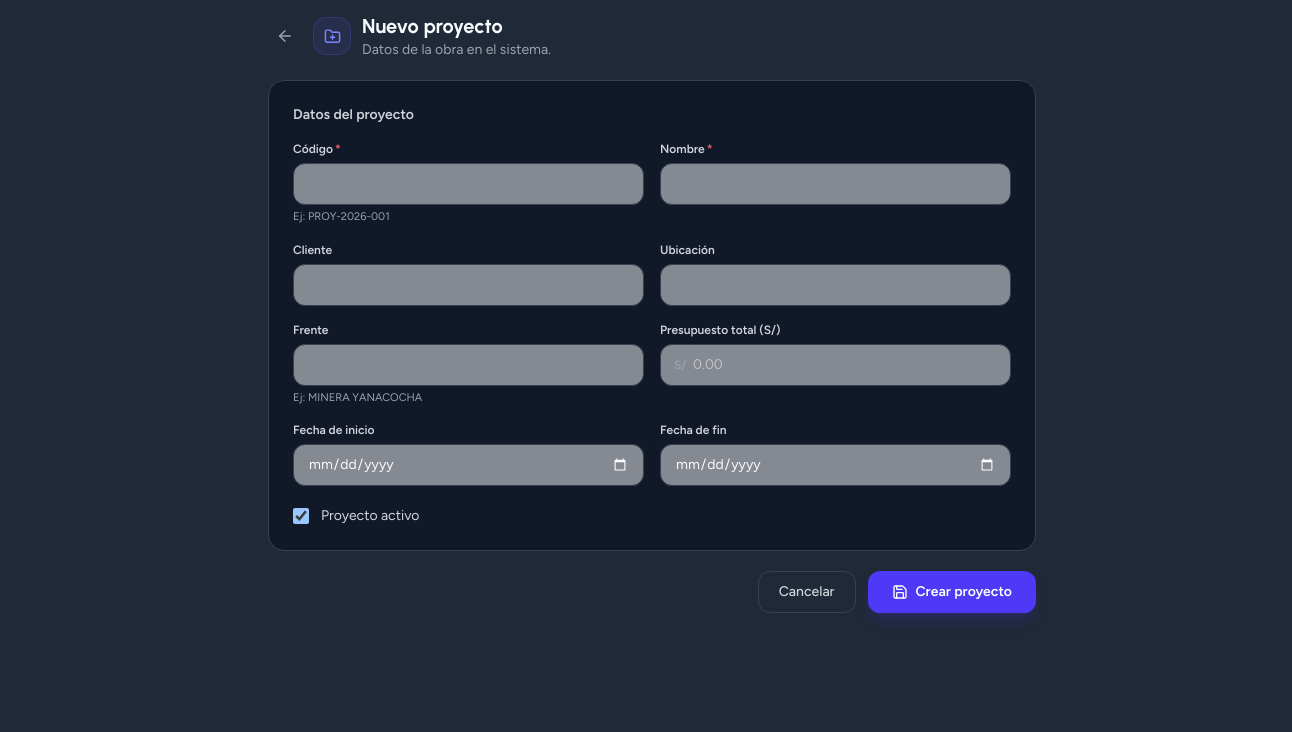
Test: ProjectFormPage — crear › camino feliz: crea el proyecto y vuelve al listado
Type "PRY-009" into the field labelled "Código*" at x=468, y=184, box [293,163,644,205]
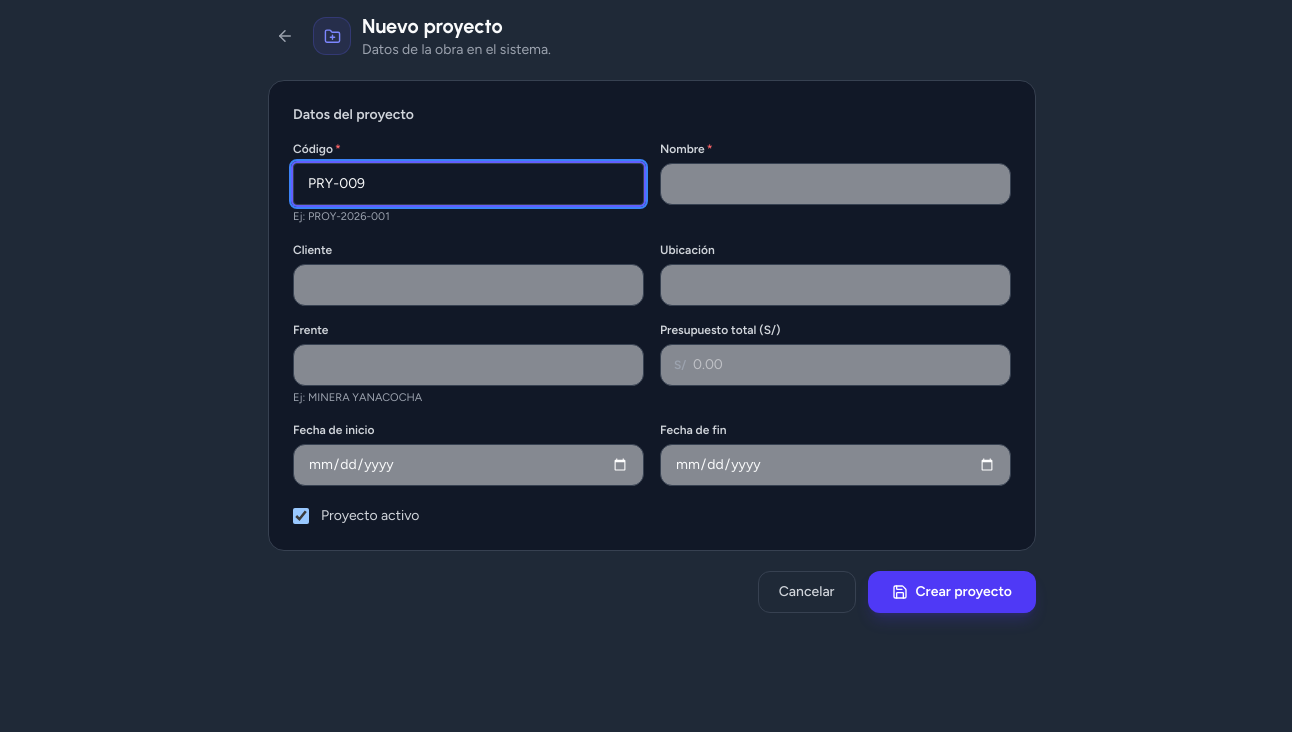
Type "Proyecto Nuevo" into the field labelled "Nombre*" at x=836, y=184, box [660,163,1011,205]
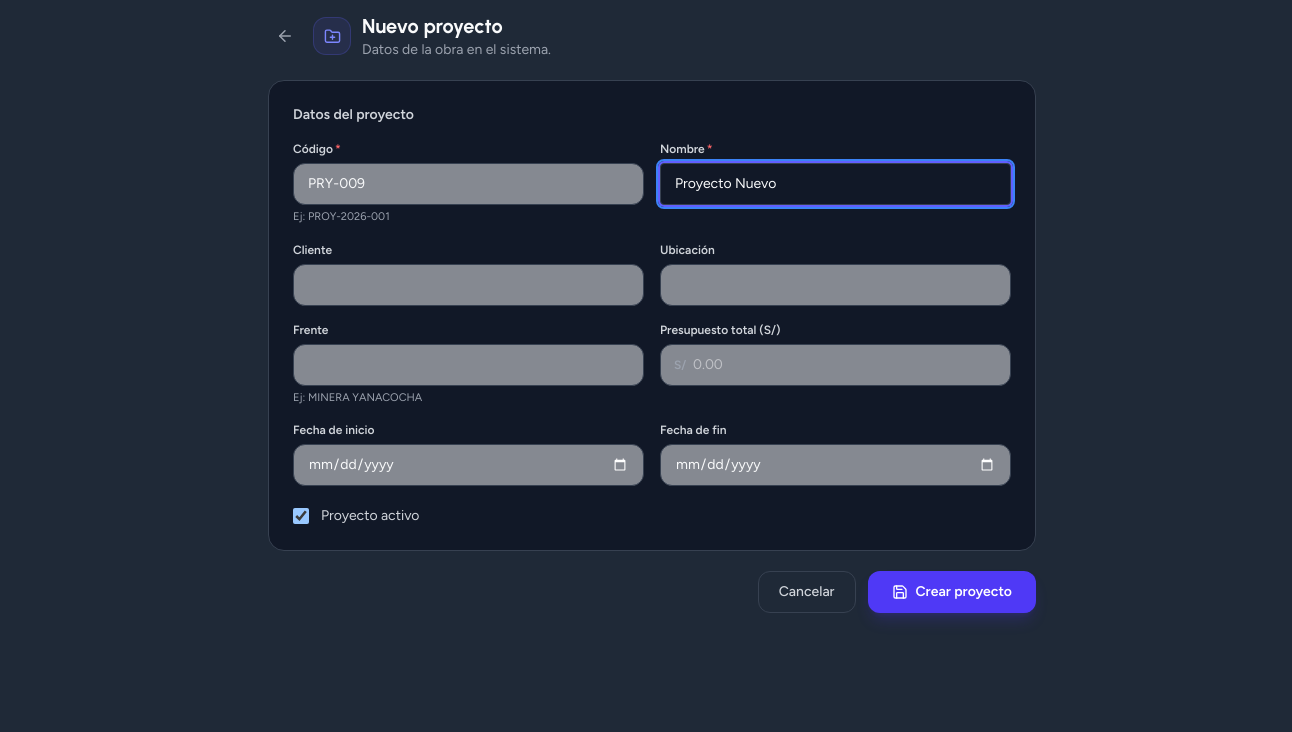
Click the button "Crear proyecto" at x=952, y=592, box [868,571,1036,613]
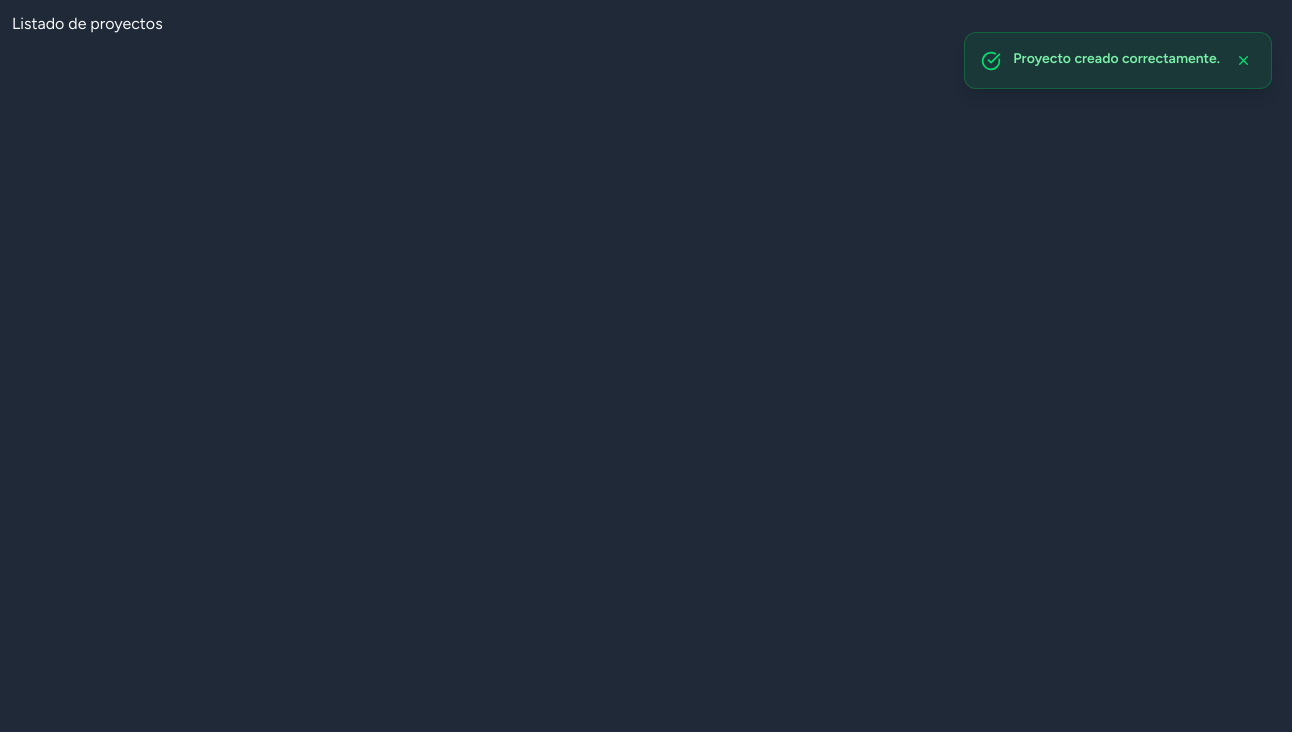
Check: the text "Listado de proyectos" is shown, box [12,14,163,33]
